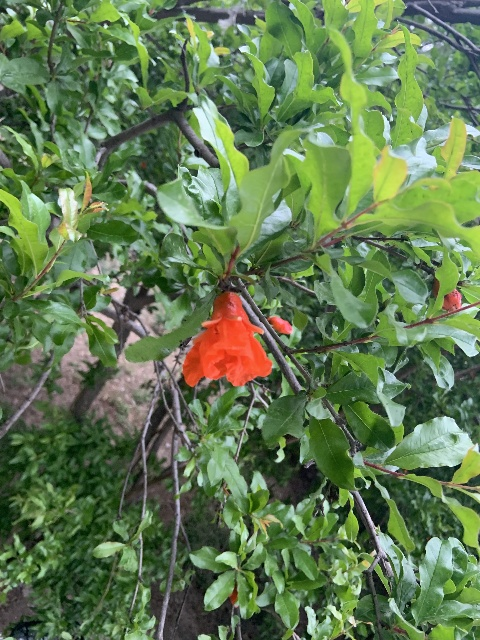bud: (431, 277, 462, 312), (266, 316, 292, 334)
flower: (182, 290, 272, 387)
